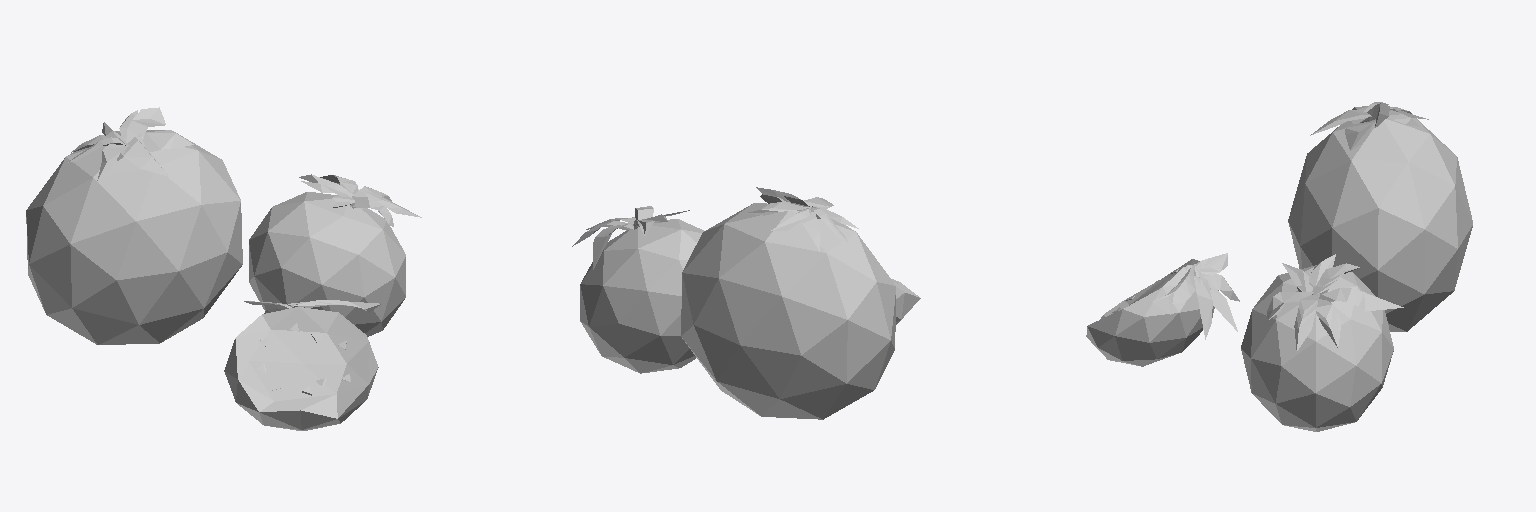
Rendered from tomato.obj.
3 views of the same model, side by side, from view 1: azimuth 30°, elevation 25°; view 2: azimuth 150°, elevation 25°; view 3: azimuth 270°, elevation 25° (orthographic).
Size of the model in its own units: 0.3702 by 0.2446 by 0.3545.